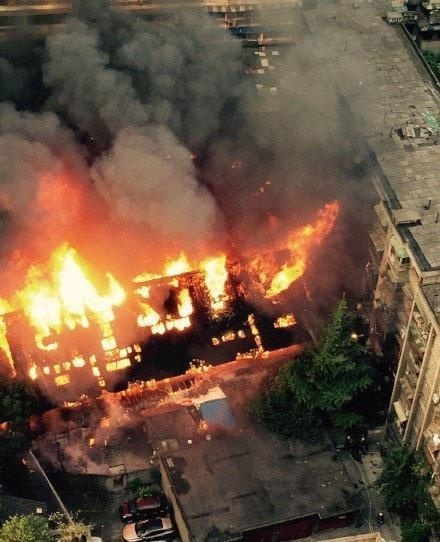fire: (8, 229, 307, 388)
